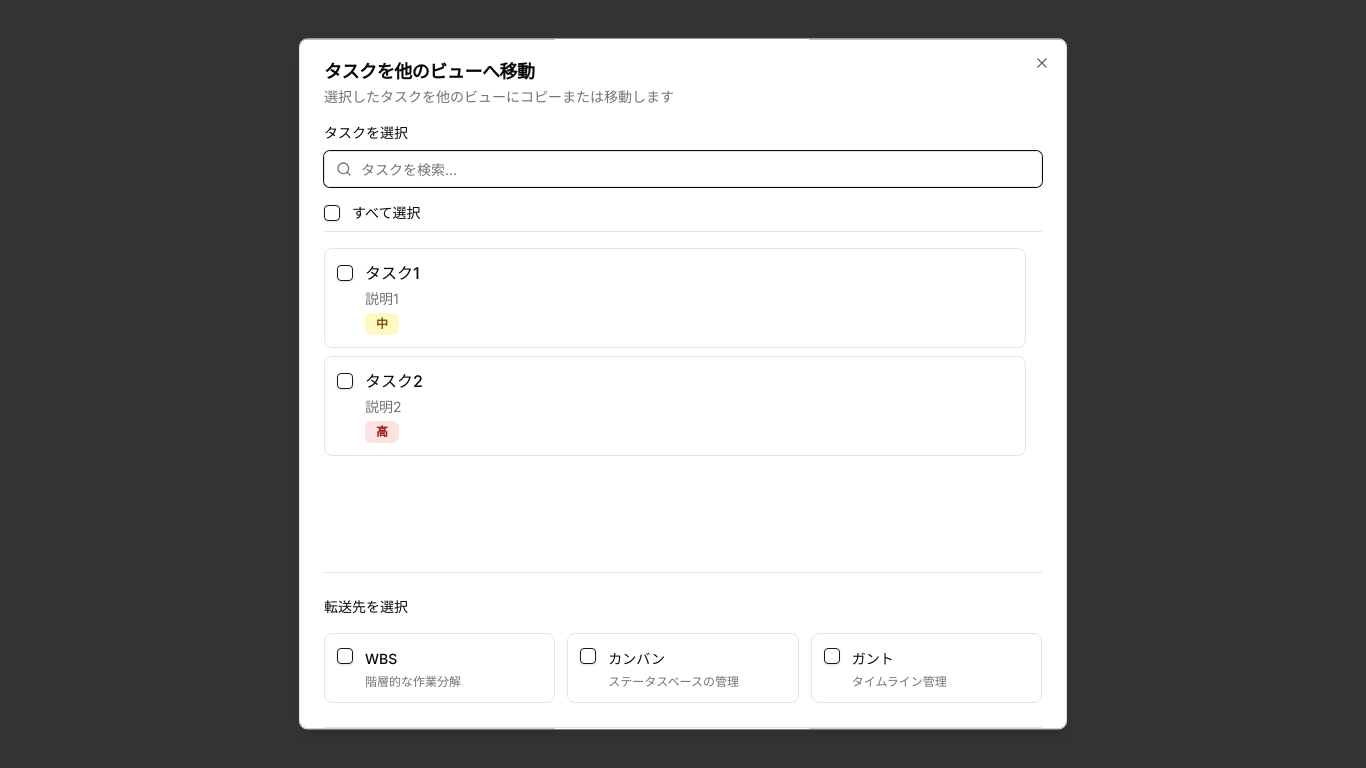
Test: TaskTransferDialog › ビューを選択できる
Click the checkbox named "WBS" at coordinates (345, 656), box [337,648,353,664]
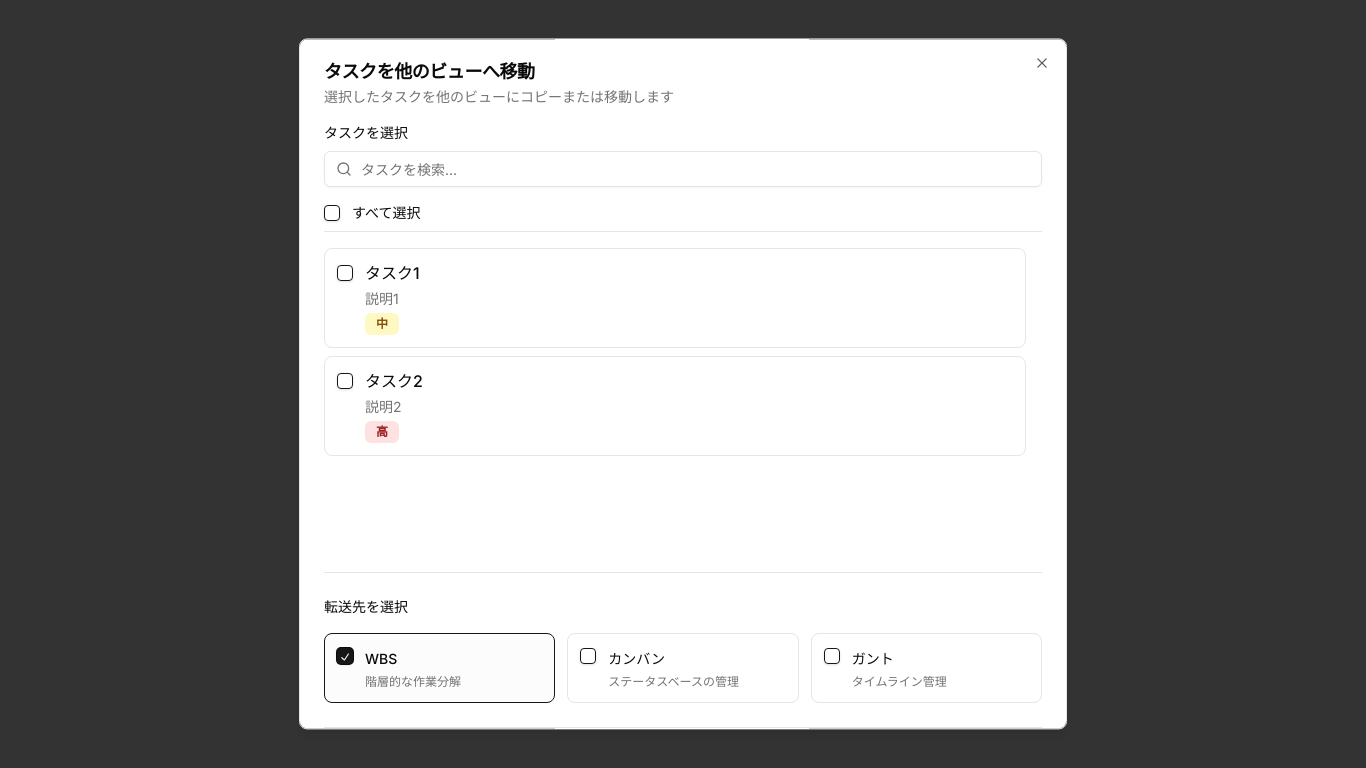
Note: タスクも選択する必要がある
Click the checkbox named "タスク1を選択" at coordinates (345, 273), box [337,265,353,281]
(page scrolled)
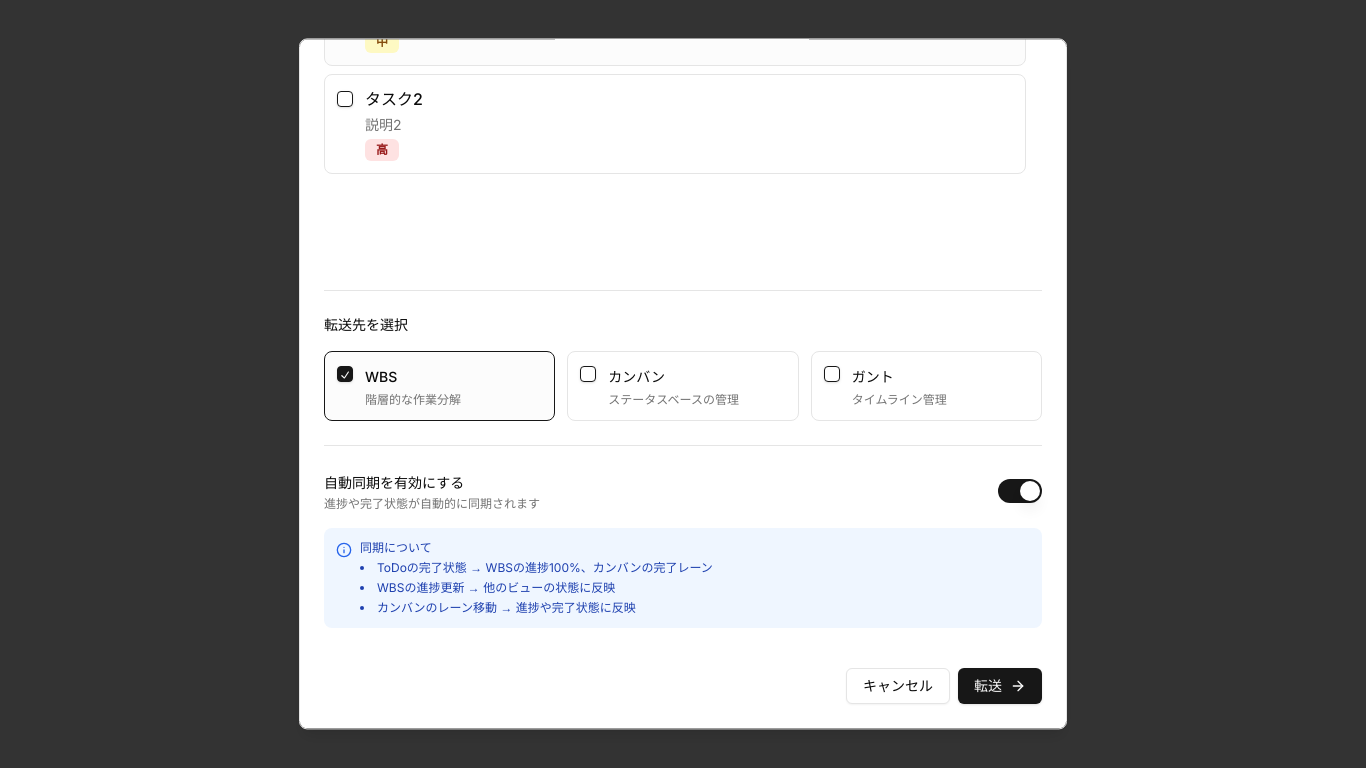
Expected: the button "転送" is enabled, [958,668,1042,704]
